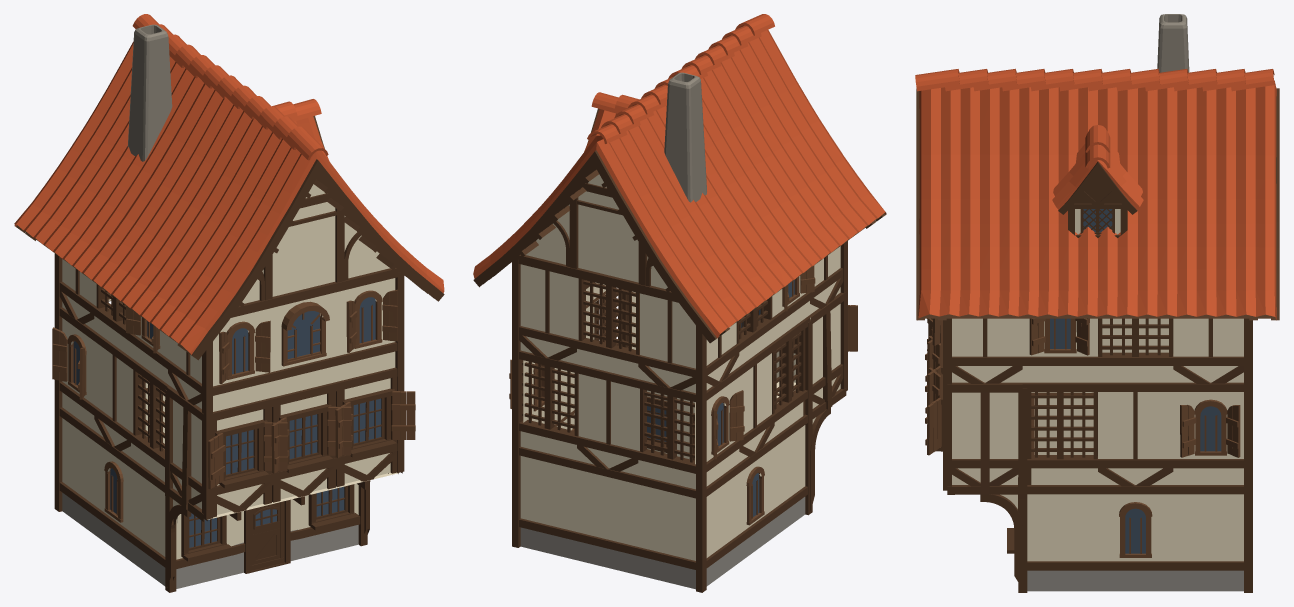
File: townhouse_wide.obj
3 renders of one model, left to right at view 1: azimuth 30°, elevation 25°; view 2: azimuth 150°, elevation 25°; view 3: azimuth 270°, elevation 25°, orthographic. The views are drawn at different scales.
Bounding box in the file's own units: 8.25 × 14.8 × 9.68.
